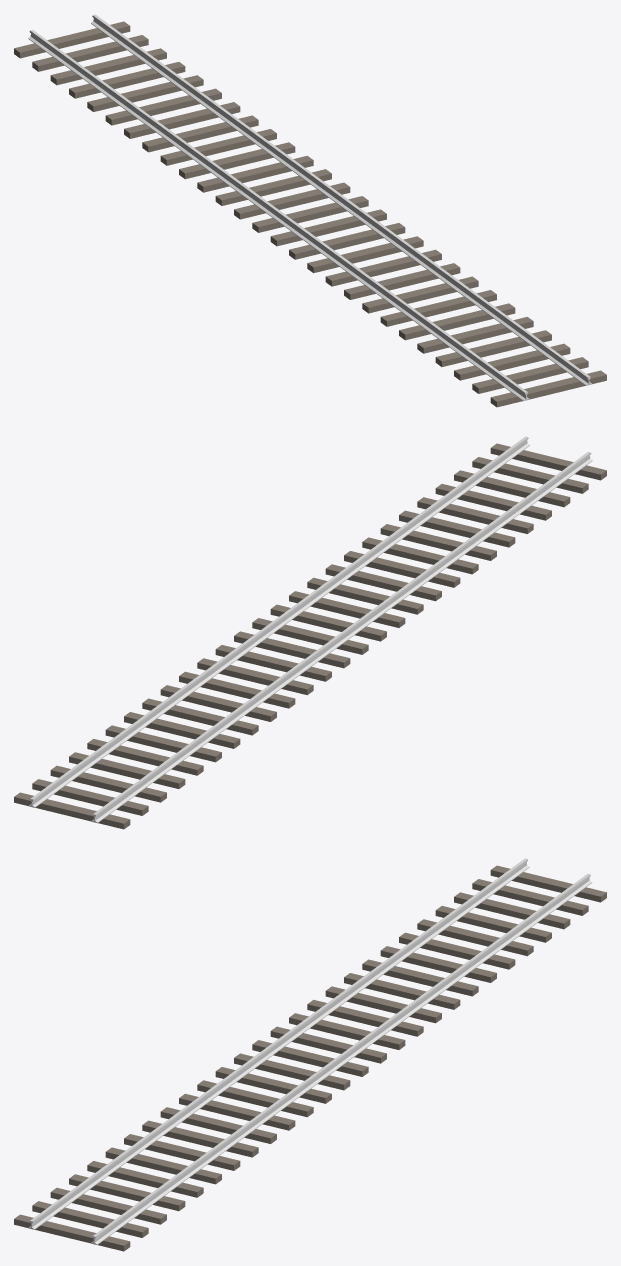
File: track_moved.fbx
3 views of the same model, one above another, from view 1: azimuth 30°, elevation 25°; view 2: azimuth 150°, elevation 25°; view 3: azimuth 330°, elevation 25° (orthographic).
Visible parts, largest first — view 1: rail_straight; view 2: rail_straight; view 3: rail_straight.
Boxes of the visible parts, left/top/right/bottom form: rail_straight: left=14, top=14, right=606, bottom=407; rail_straight: left=14, top=436, right=606, bottom=829; rail_straight: left=14, top=858, right=606, bottom=1251.
Bounding box in the file's own units: 260 × 31 × 2025.
